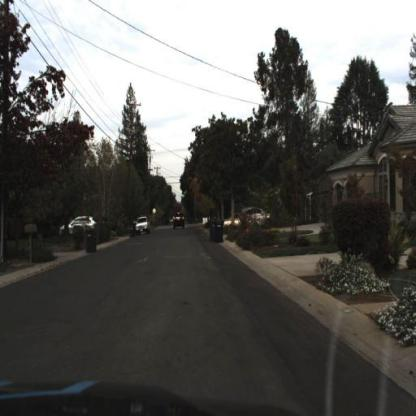car: (62, 214, 100, 242), (63, 211, 101, 236), (220, 211, 251, 236), (240, 205, 274, 223), (133, 213, 153, 235), (171, 210, 188, 231), (136, 216, 150, 239)
